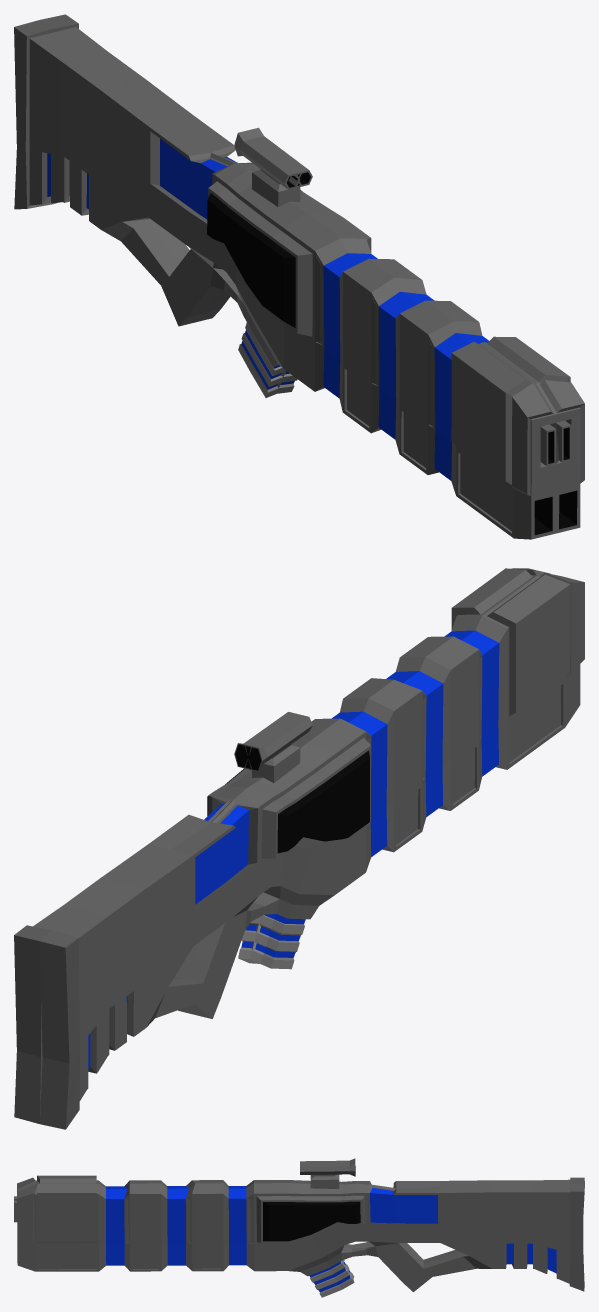
Rendered from scifi2hand.fbx.
The picture shows the model from 3 angles, top to bottom: view 1: azimuth 30°, elevation 25°; view 2: azimuth 150°, elevation 25°; view 3: azimuth 270°, elevation 25°; orthographic projection. The views are drawn at different scales.
Parts seen in each view (by area): view 1: Cube; view 2: Cube; view 3: Cube.
Part boxes in pixels (x1,y1,x2,y2): Cube: (14, 14, 584, 539); Cube: (14, 568, 584, 1129); Cube: (14, 1158, 584, 1297).
Size of the model in its own units: 6.71 by 18.11 by 70.18.
